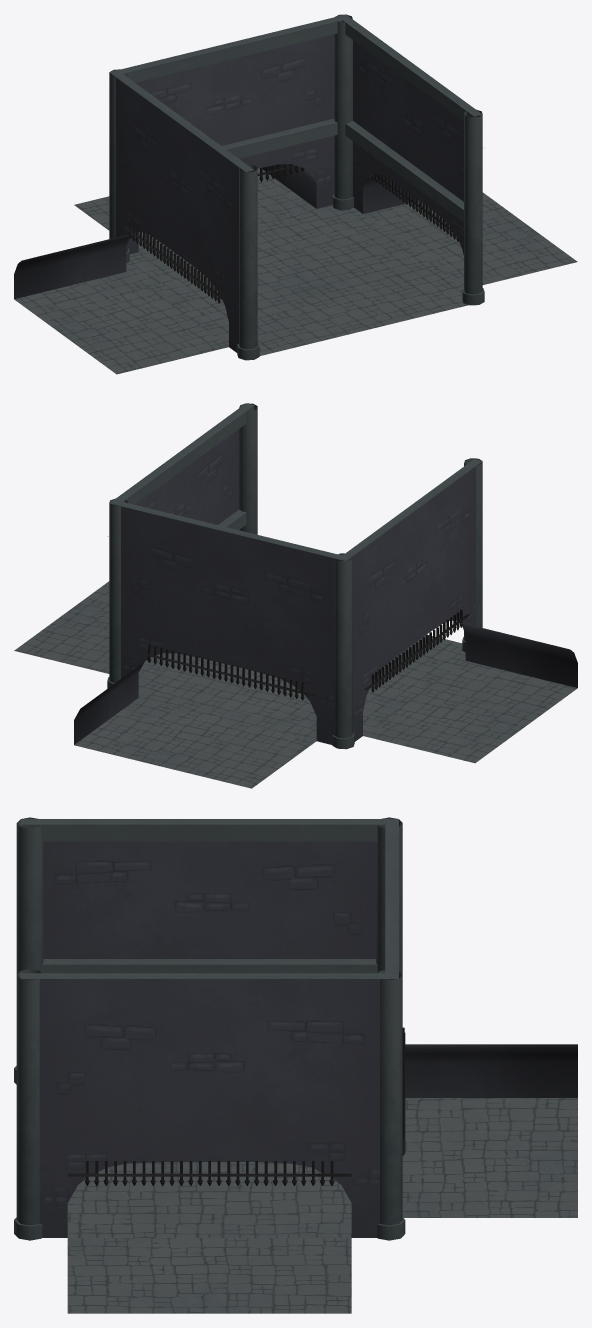
The model's file is arena.gltf.
The picture shows the model from 3 angles, top to bottom: view 1: azimuth 30°, elevation 25°; view 2: azimuth 150°, elevation 25°; view 3: azimuth 270°, elevation 25°; orthographic projection. The views are drawn at different scales.
Visible parts, largest first — view 1: arena.003; view 2: arena.003; view 3: arena.003.
Part boxes in pixels (left/top/right/bottom): arena.003: left=14, top=14, right=577, bottom=374; arena.003: left=14, top=403, right=577, bottom=788; arena.003: left=14, top=817, right=577, bottom=1313.
Bounding box in the file's own units: 54.95 × 21.32 × 42.08.
Materials: 4 (4 with a texture image).
